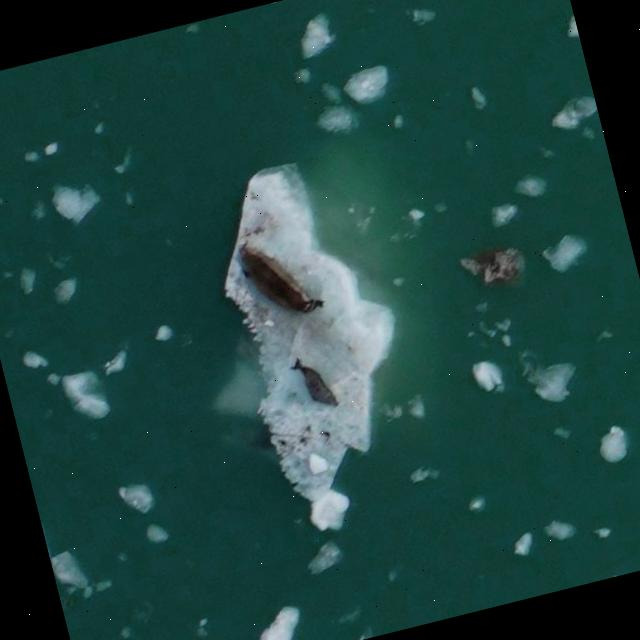seal: (240, 245, 324, 314), (293, 359, 339, 407)
